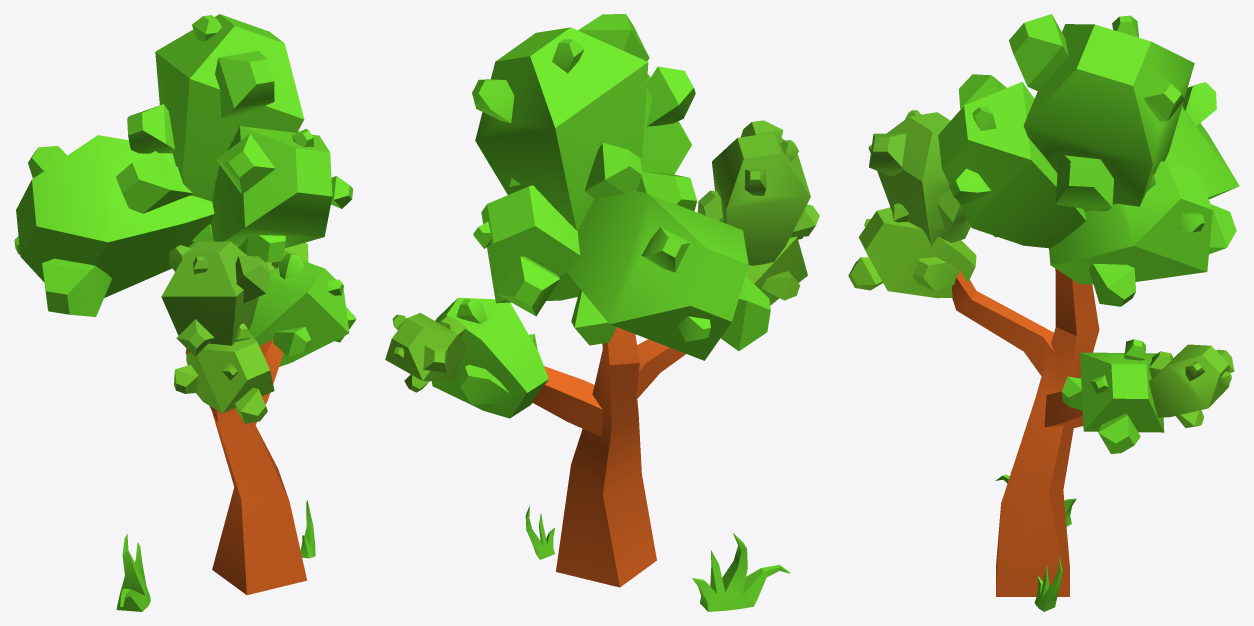
File: tree.glb
The picture shows the model from 3 angles, left to right: view 1: azimuth 30°, elevation 25°; view 2: azimuth 150°, elevation 25°; view 3: azimuth 270°, elevation 25°; orthographic projection. The views are drawn at different scales.
Parts seen in each view (by area): view 1: BranchesCBranchesuBranchesbBrancheseBranches.Branches0Branc. (×3), Trunk, BranchesCBranchesuBranchesbBrancheseBranches.Branches0Branch, BranchesCBranchesuBranchesbBrancheseBranches.Branches0BrancB, BranchesCBranchesuBranchesbBrancheseBranchesBranch, Plane, Plane.001; view 2: BranchesCBranchesuBranchesbBrancheseBranches.Branches0Branc. (×5), Trunk, BranchesCBranchesuBranchesbBrancheseBranches.Branches0Branch, BranchesCBranchesuBranchesbBrancheseBranches.Branches0BrancB, Plane, BranchesCBranchesuBranchesbBrancheseBranchesBranch, Plane.001; view 3: BranchesCBranchesuBranchesbBrancheseBranches.Branches0Branc. (×5), Trunk, BranchesCBranchesuBranchesbBrancheseBranches.Branches0Branch, BranchesCBranchesuBranchesbBrancheseBranchesBranch, BranchesCBranchesuBranchesbBrancheseBranches.Branches0BrancB, Plane.001.
Part boxes in pixels (<box>): BranchesCBranchesuBranchesbBrancheseBranches.Branches0Branc. (×3): <box>14,14,353,316</box>; Trunk: <box>185,339,306,595</box>; BranchesCBranchesuBranchesbBrancheseBranches.Branches0Branch: <box>161,241,269,356</box>; BranchesCBranchesuBranchesbBrancheseBranches.Branches0BrancB: <box>249,253,356,366</box>; BranchesCBranchesuBranchesbBrancheseBranchesBranch: <box>174,323,274,423</box>; Plane: <box>116,534,150,611</box>; Plane.001: <box>300,500,315,558</box>; BranchesCBranchesuBranchesbBrancheseBranches.Branches0Branc. (×5): <box>385,14,770,392</box>; Trunk: <box>532,327,685,587</box>; BranchesCBranchesuBranchesbBrancheseBranches.Branches0Branch: <box>697,120,819,265</box>; BranchesCBranchesuBranchesbBrancheseBranches.Branches0BrancB: <box>432,297,548,418</box>; Plane: <box>692,533,789,611</box>; BranchesCBranchesuBranchesbBrancheseBranchesBranch: <box>745,236,807,305</box>; Plane.001: <box>525,505,554,559</box>; BranchesCBranchesuBranchesbBrancheseBranches.Branches0Branc. (×5): <box>938,14,1239,427</box>; Trunk: <box>952,268,1099,596</box>; BranchesCBranchesuBranchesbBrancheseBranches.Branches0Branch: <box>868,110,970,245</box>; BranchesCBranchesuBranchesbBrancheseBranchesBranch: <box>848,203,976,298</box>; BranchesCBranchesuBranchesbBrancheseBranches.Branches0BrancB: <box>1061,339,1164,453</box>; Plane.001: <box>1034,557,1062,611</box>.
Size of the model in its own units: 10.59 by 16.8 by 10.6.
